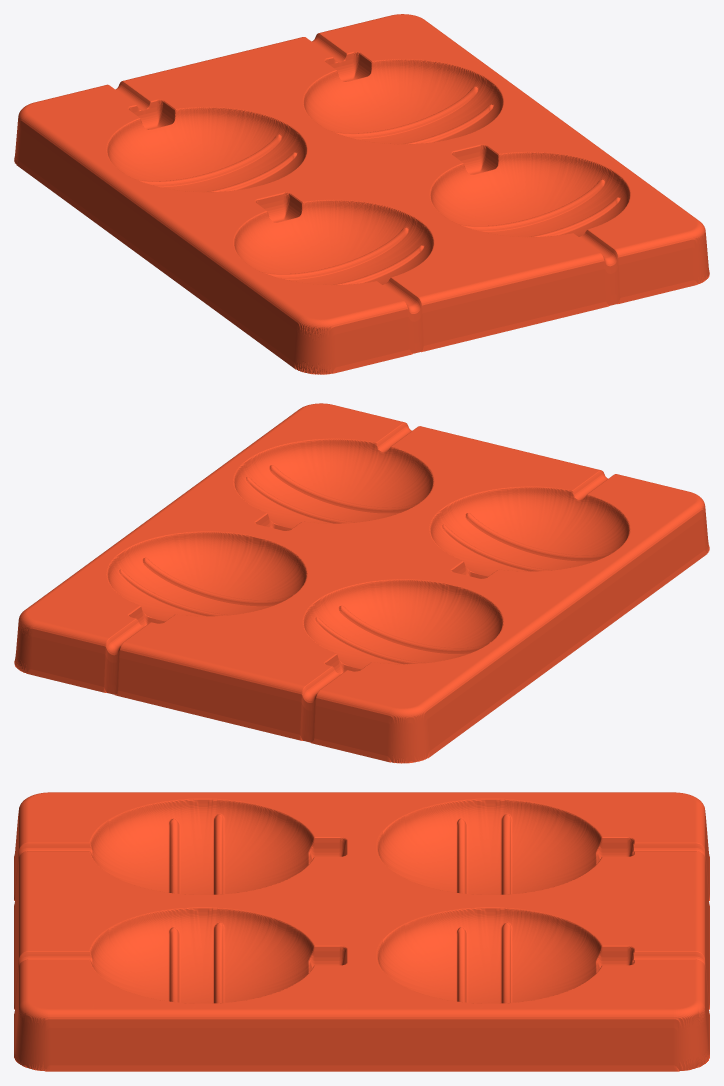
The model's file is mold.glb.
The picture shows the model from 3 angles, top to bottom: view 1: azimuth 30°, elevation 25°; view 2: azimuth 150°, elevation 25°; view 3: azimuth 270°, elevation 25°; orthographic projection. The views are drawn at different scales.
Parts seen in each view (by area): view 1: geometry_0; view 2: geometry_0; view 3: geometry_0.
Boxes of the visible parts, box(x1,y1,x2,y2) form: geometry_0: box(14, 14, 709, 374); geometry_0: box(14, 403, 709, 763); geometry_0: box(14, 792, 709, 1071).
Bounding box in the file's own units: 0.1345 × 0.0155 × 0.1735.
